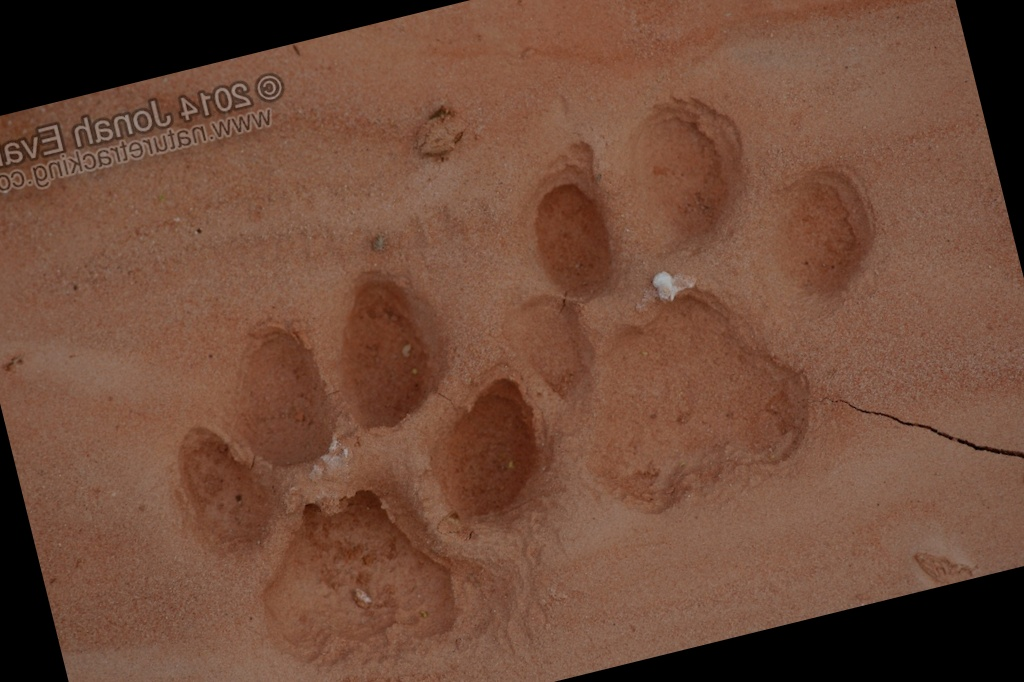lynx: (456, 33, 966, 570), (120, 237, 594, 682)
